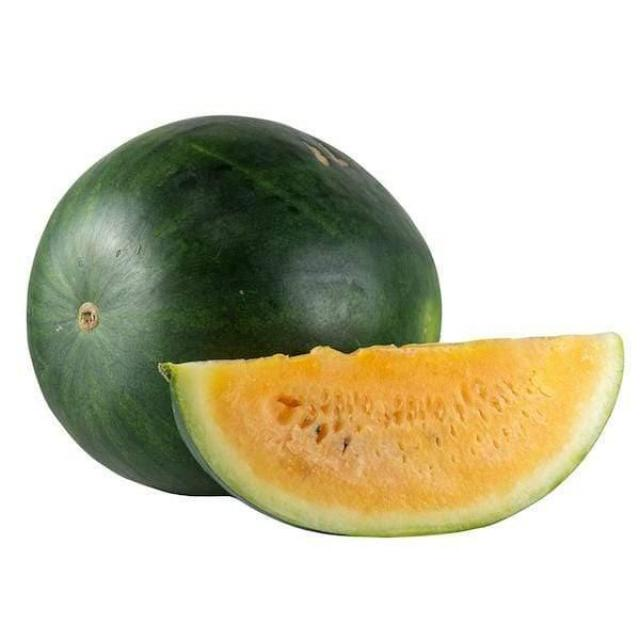watermelon: (19, 106, 453, 514), (160, 321, 627, 540)
